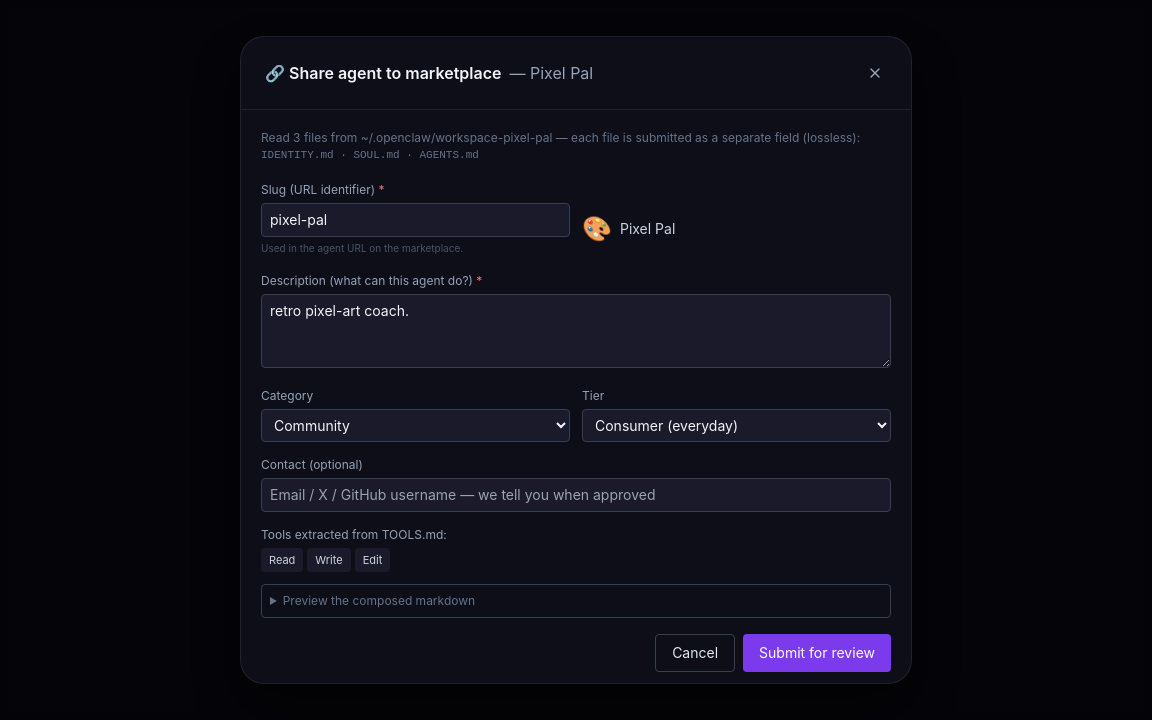
ShareAgentForm · L3 chaos › network error: shows friendly network message, not ECONNREFUSED
Click the button with test id "share-submit" at (817, 653), box 743,634 -> 891,672
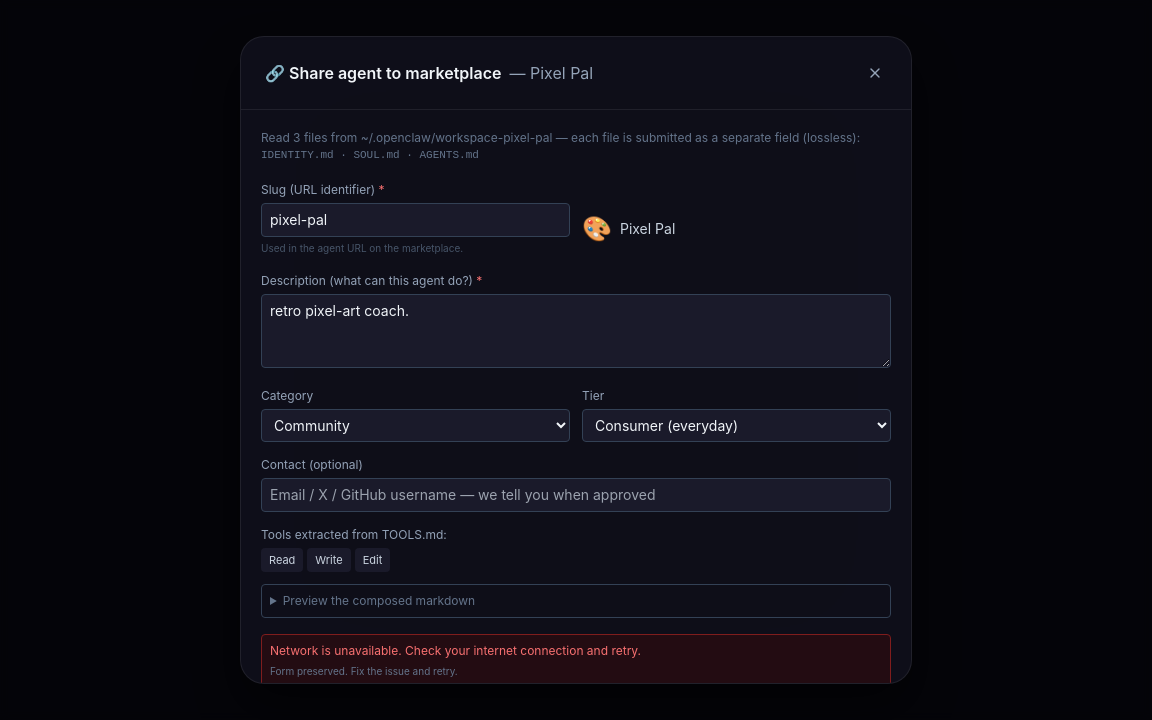
Result: the message with test id "share-error" is shown at 261,634 -> 891,684
Result: the message with test id "share-error" shows "Network is unavailable" at 270,643 -> 641,658
